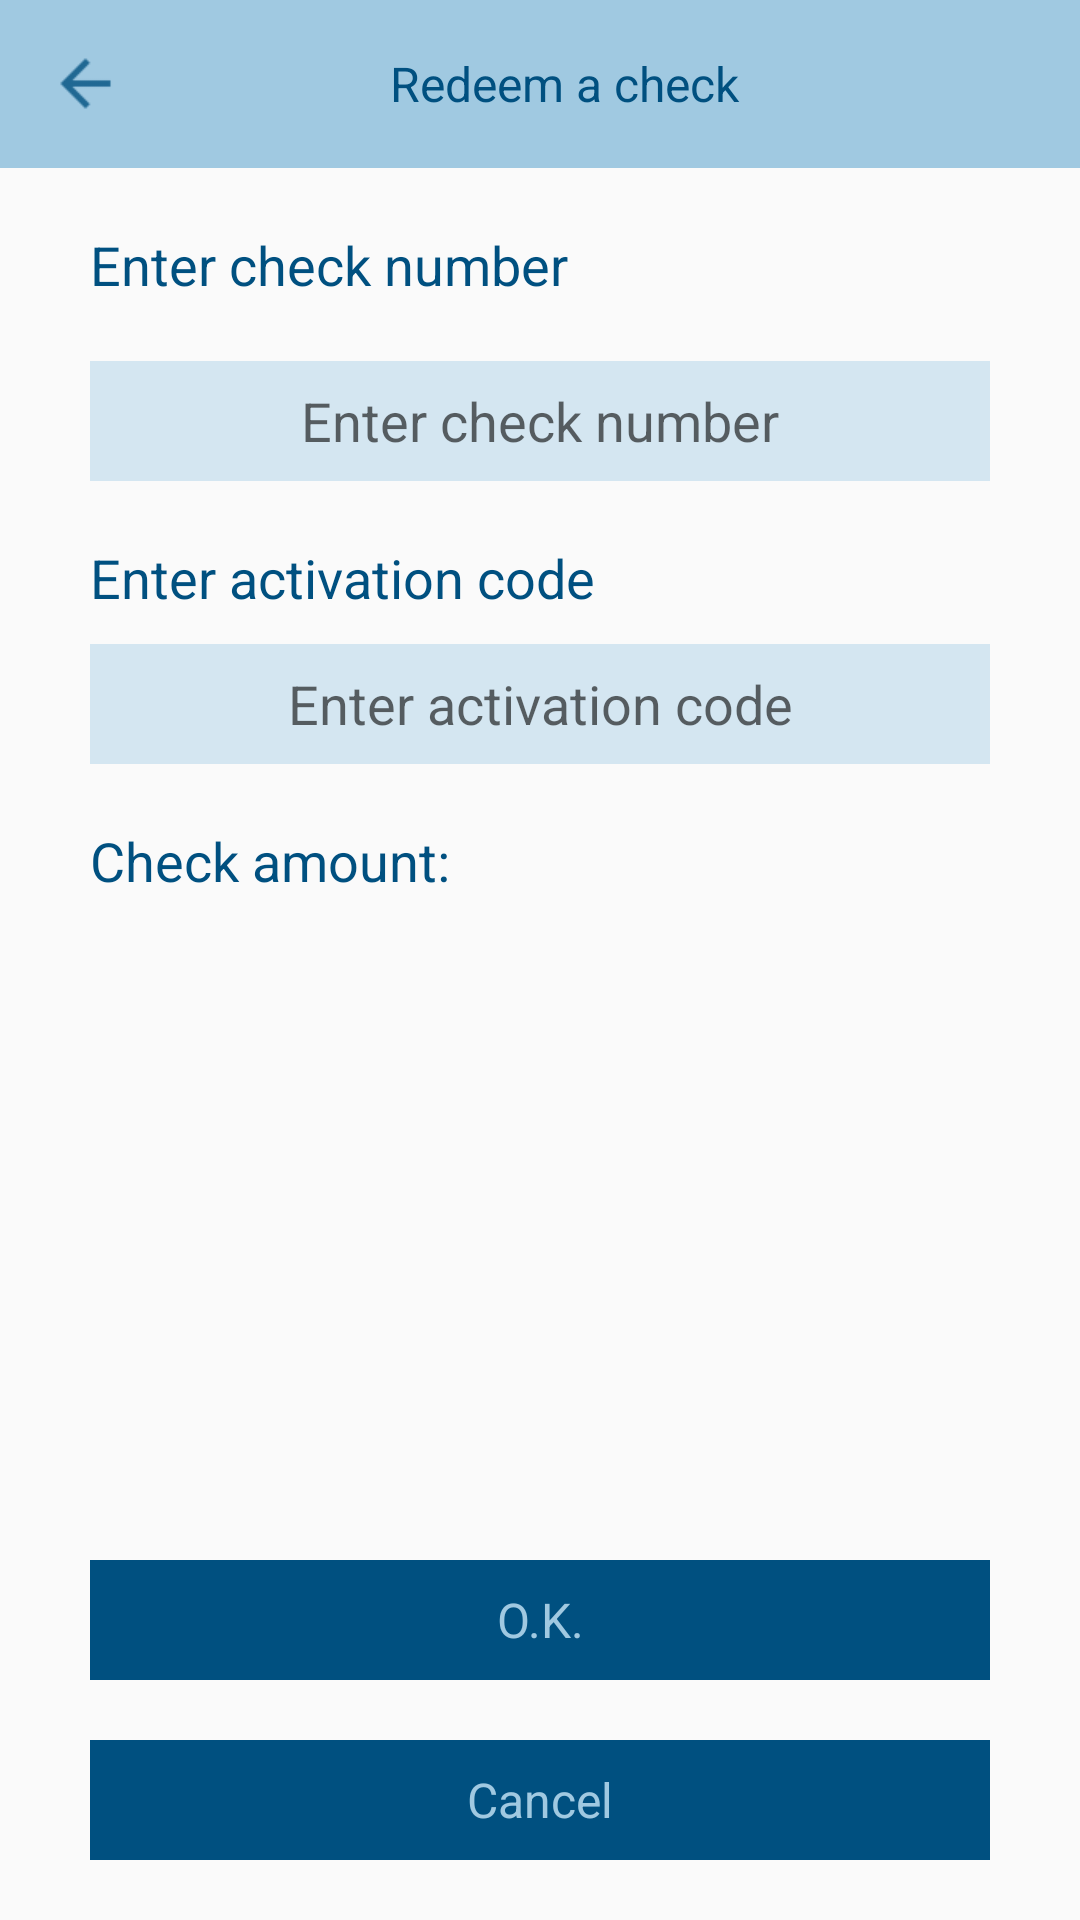

Where icons sit on this 1080*1920 app screen, as (x1,y1,x2,y2):
arrow back: (60,58,111,109)
